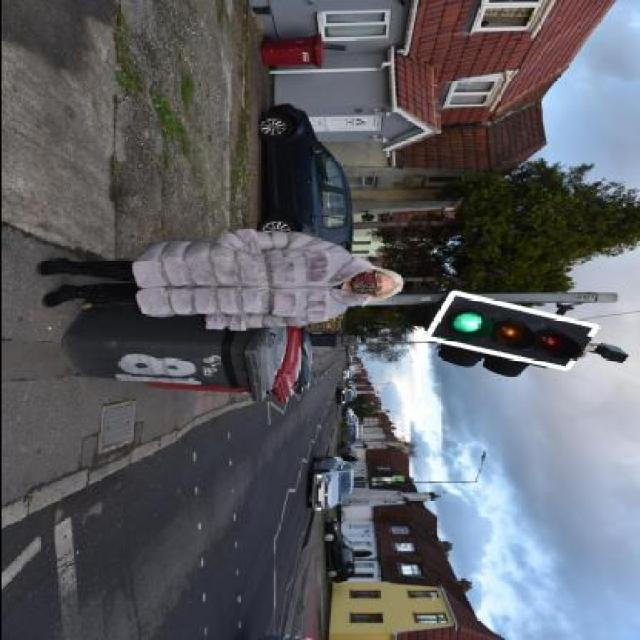green-light: (435, 280, 595, 383)
